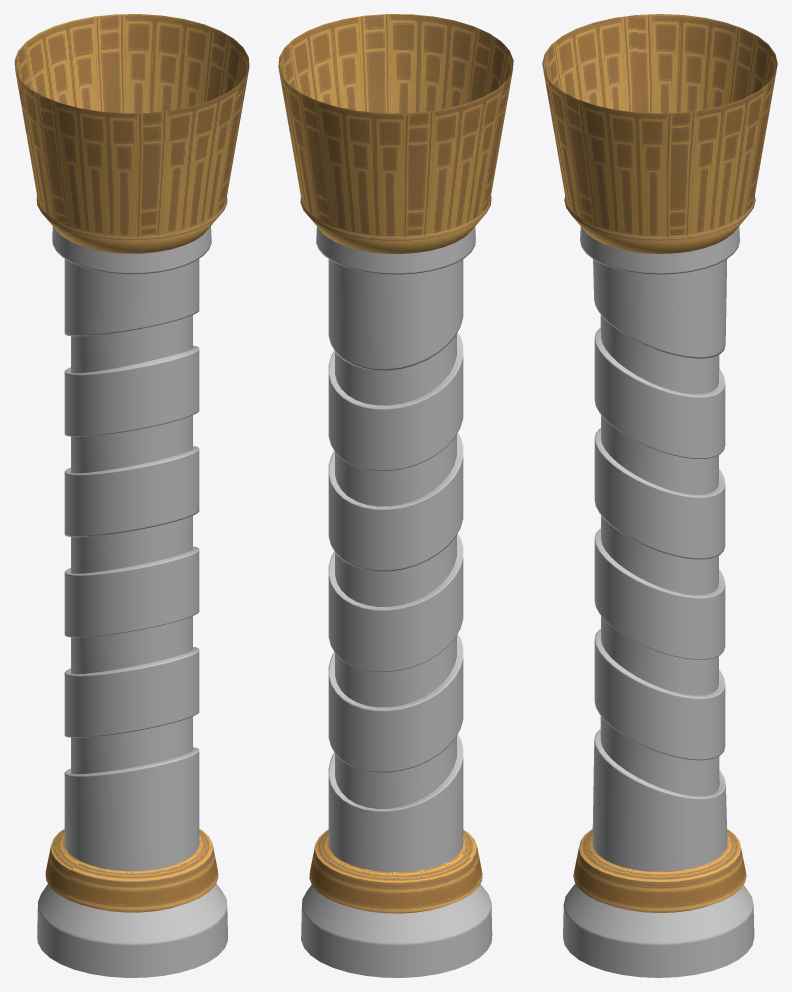
File: SM_Column_02.fbx
3 views of the same model, side by side, from view 1: azimuth 30°, elevation 25°; view 2: azimuth 150°, elevation 25°; view 3: azimuth 270°, elevation 25° (orthographic).
Visible parts, largest first — view 1: SM_Column_02_LOD0; view 2: SM_Column_02_LOD0; view 3: SM_Column_02_LOD0.
Part boxes in pixels (x1,y1,x2,y2): SM_Column_02_LOD0: (14, 14, 249, 977); SM_Column_02_LOD0: (278, 14, 513, 977); SM_Column_02_LOD0: (542, 14, 777, 977).
Size of the model in its own units: 122 by 122 by 500.
